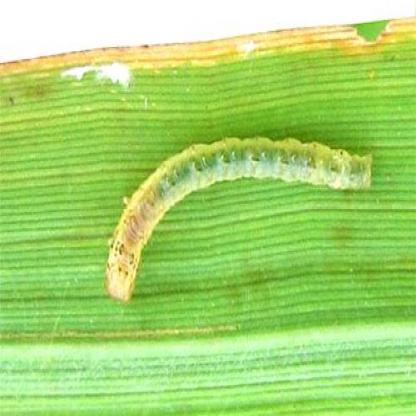leaf-folder: (98, 131, 368, 298)
